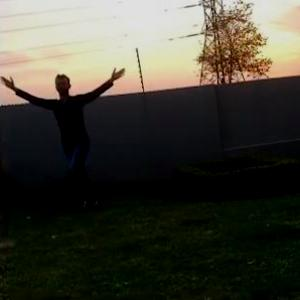takeoff: (16, 74, 128, 200)
